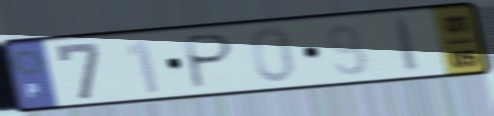0: (247, 24, 300, 86)
1: (126, 37, 161, 95)
7: (50, 41, 104, 102)
9: (325, 21, 372, 79)
I: (390, 13, 423, 75)
P: (182, 31, 237, 92)
